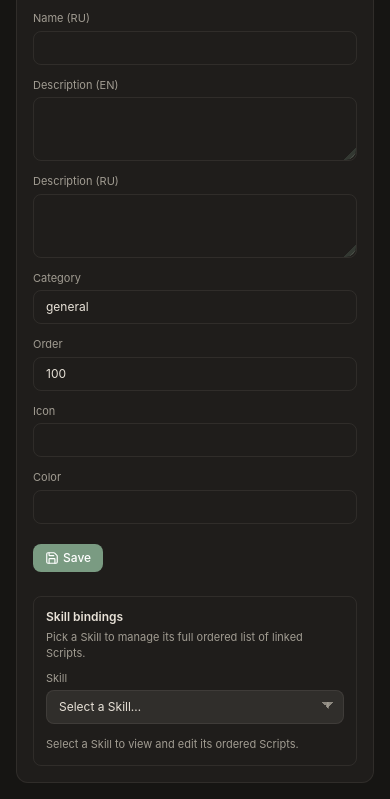
Test: AdminScriptsPage integration › saves a Skill's ordered Script bindings via full replace
(page scrolled)
Step 1. Select "Reporting" in the dropdown labelled "Skill" → (195, 707), box [46, 690, 344, 724]
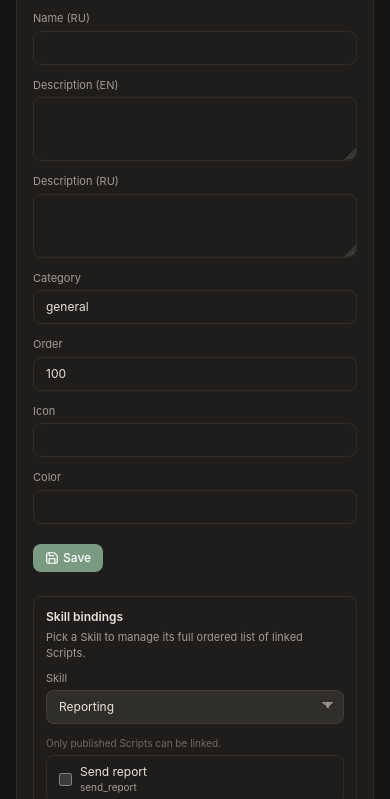
Step 2. Click the checkbox named "Link Script: Send report" → (66, 780), box [59, 773, 72, 786]
(page scrolled)
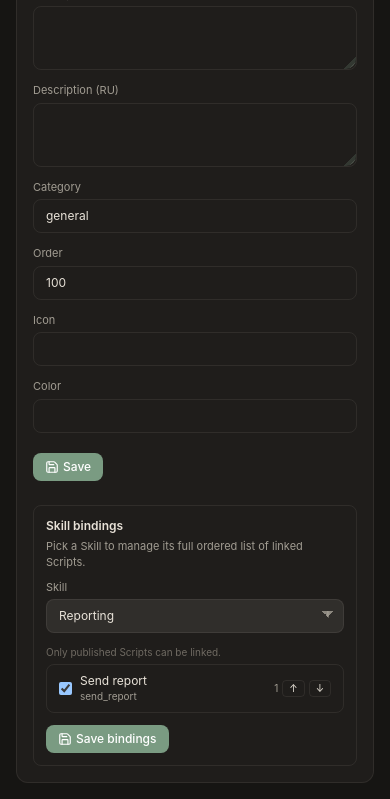
Step 3. Click the button "Save bindings" → (107, 739), box [46, 725, 168, 753]
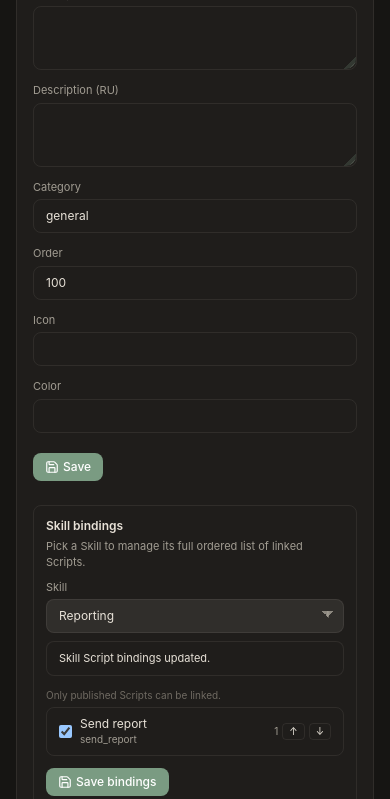
Check: the text "Skill Script bindings updated." is shown, box [46, 641, 344, 676]
